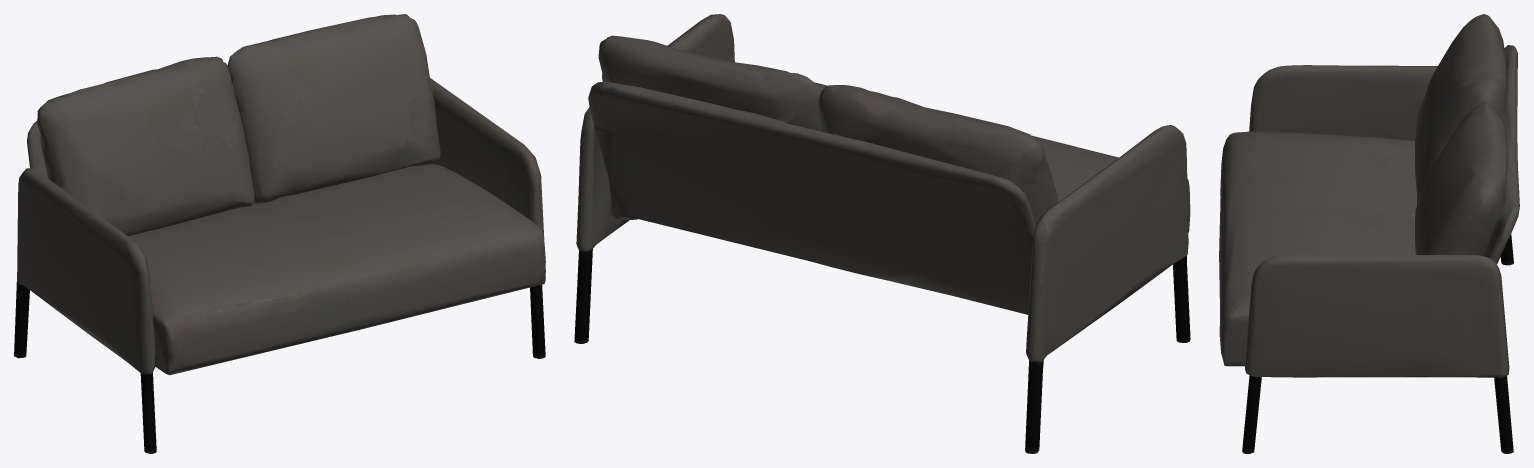
The picture shows the model from 3 angles, left to right: view 1: azimuth 30°, elevation 25°; view 2: azimuth 150°, elevation 25°; view 3: azimuth 270°, elevation 25°; orthographic projection. The views are drawn at different scales.
Parts seen in each view (by area): view 1: model; view 2: model; view 3: model.
Part boxes in pixels (x1,y1,x2,y2): model: (14,14,545,453); model: (574,14,1190,453); model: (1219,14,1519,453).
Size of the model in its own units: 1.23 by 0.7653 by 0.794.
Materials: 1 (1 with a texture image).
